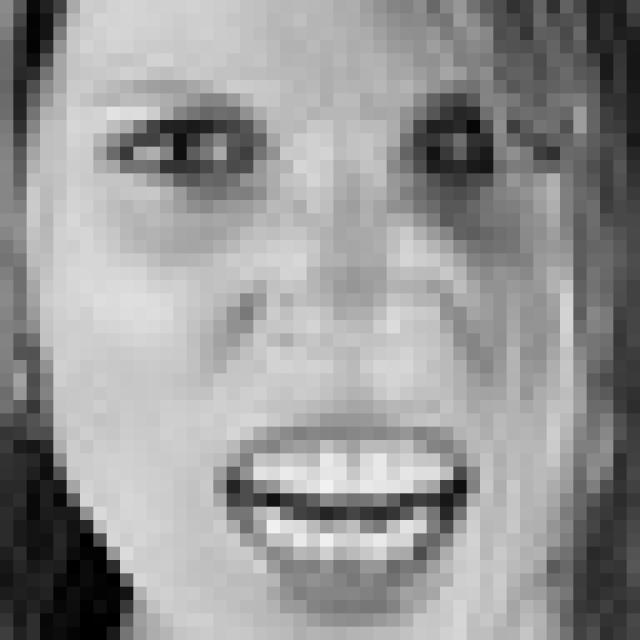angry: (90, 70, 576, 623)
